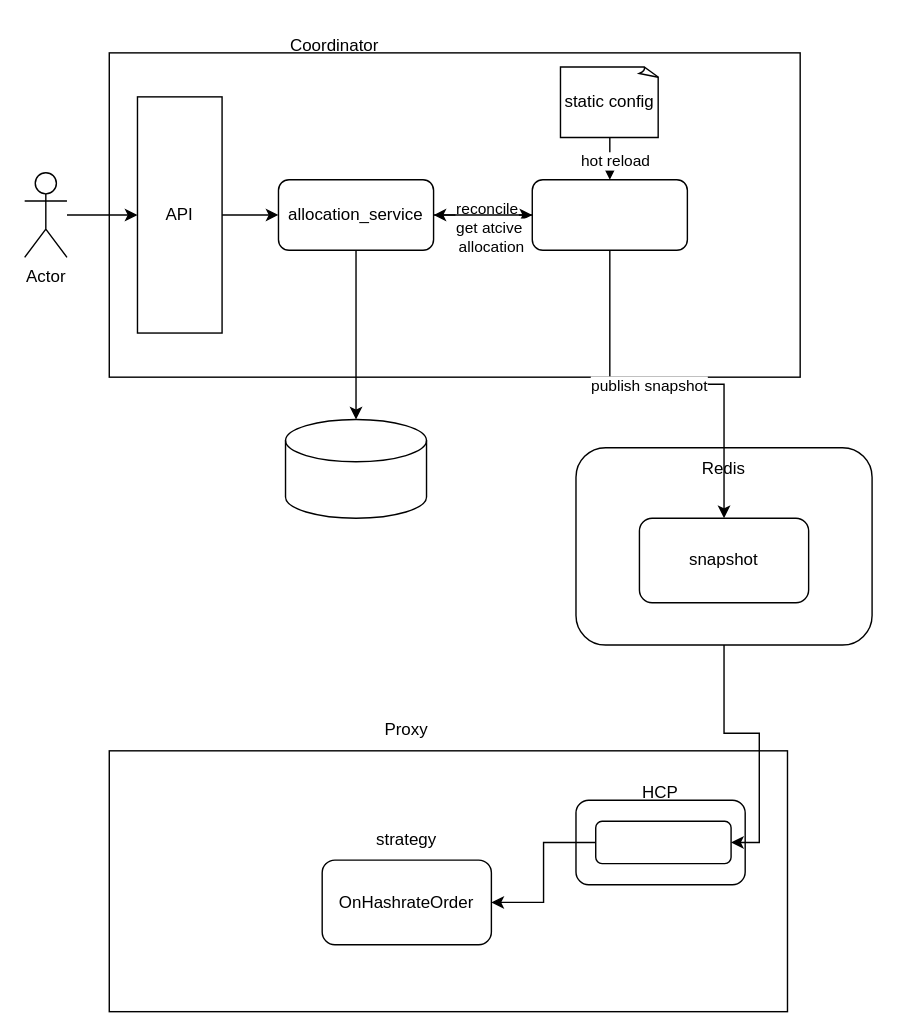
Some shapes in this 897 by 1036 pixel diagram are drawn without their labels. Each missing label, with the centre of its shape:
hashrate_order: [662,842]
PG: [355,468]
service: [609,214]
